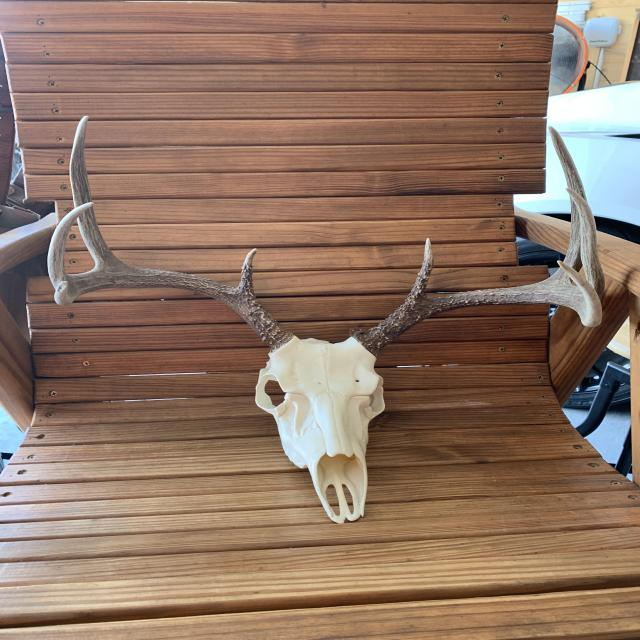L-F: (350, 260, 602, 359)
L-G1: (404, 237, 434, 303)
R-F: (54, 267, 294, 353)
R-G1: (237, 248, 258, 296)
R-G3: (47, 202, 95, 291)
